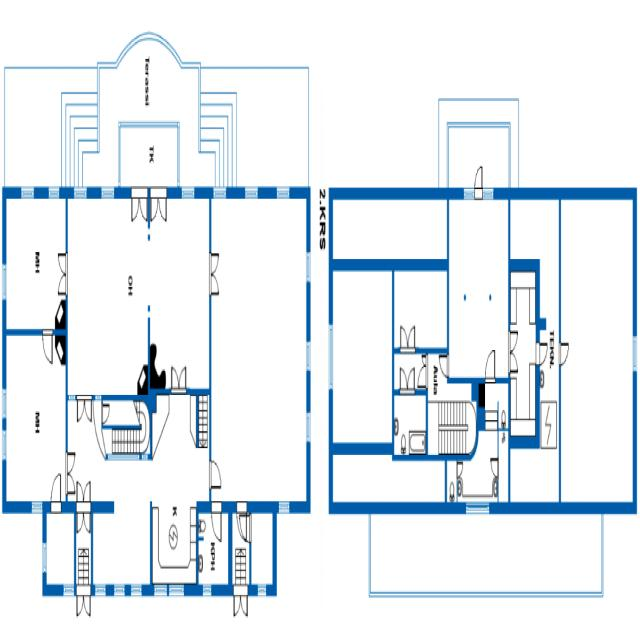door: (212, 513, 232, 540), (51, 471, 61, 513), (237, 500, 247, 540), (486, 348, 496, 384), (42, 328, 52, 363), (239, 516, 251, 544), (209, 460, 221, 488), (150, 187, 158, 222), (158, 187, 166, 222), (475, 165, 483, 200), (536, 342, 548, 365), (132, 187, 140, 221), (139, 187, 147, 221), (240, 584, 248, 617), (233, 584, 241, 617), (76, 501, 84, 533), (76, 482, 84, 513), (407, 367, 415, 396), (558, 343, 569, 364), (77, 584, 84, 616), (171, 366, 179, 394), (400, 326, 408, 354), (66, 451, 76, 473), (84, 394, 92, 421), (66, 473, 76, 494), (58, 254, 68, 275), (58, 274, 68, 295), (208, 253, 218, 274), (208, 274, 218, 295), (418, 367, 428, 388), (508, 331, 518, 352), (508, 352, 518, 373), (400, 367, 407, 396), (179, 366, 186, 394), (408, 326, 415, 354), (84, 584, 90, 616), (84, 501, 90, 533), (440, 358, 450, 377), (77, 394, 84, 421), (84, 482, 90, 513), (102, 406, 110, 423), (491, 460, 498, 476), (457, 463, 463, 478), (421, 355, 428, 367)
